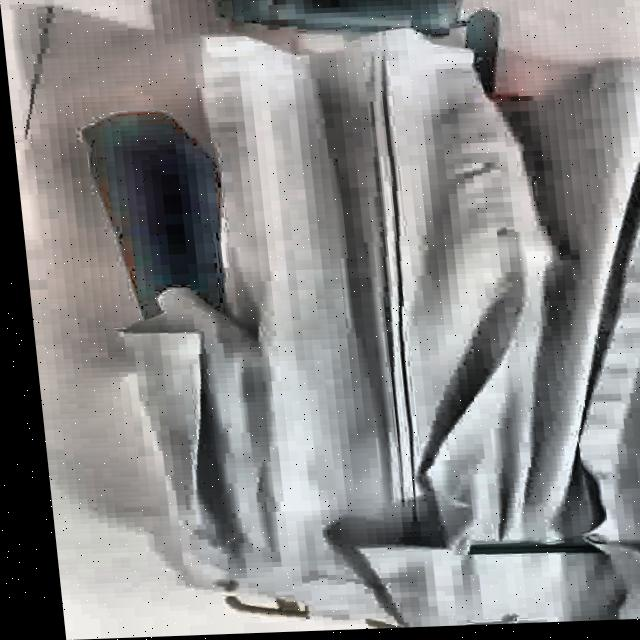clothes: (88, 0, 640, 636)
